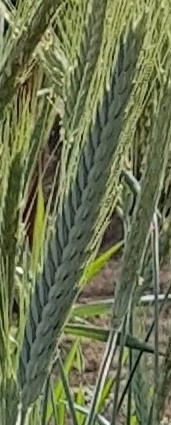Healthy Wheat: (12, 24, 151, 399)
